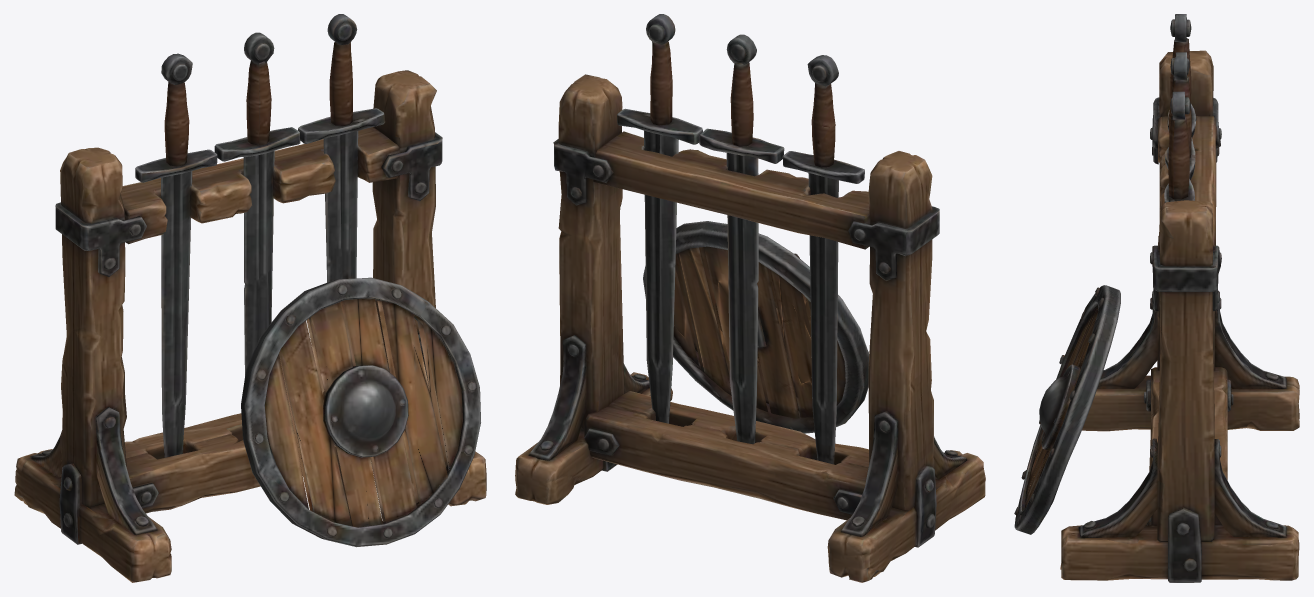
The model's file is forge_rack.glb.
3 renders of one model, left to right at view 1: azimuth 30°, elevation 25°; view 2: azimuth 150°, elevation 25°; view 3: azimuth 270°, elevation 25°, orthographic. The views are drawn at different scales.
Size of the model in its own units: 0.8018 by 0.9546 by 0.5498.
Materials: 1 (1 with a texture image).
